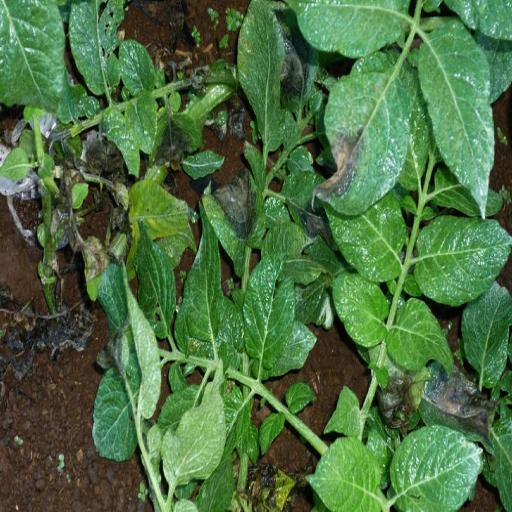disease_tomato: (300, 49, 422, 211), (234, 0, 304, 156), (413, 353, 495, 451), (202, 164, 270, 278)
